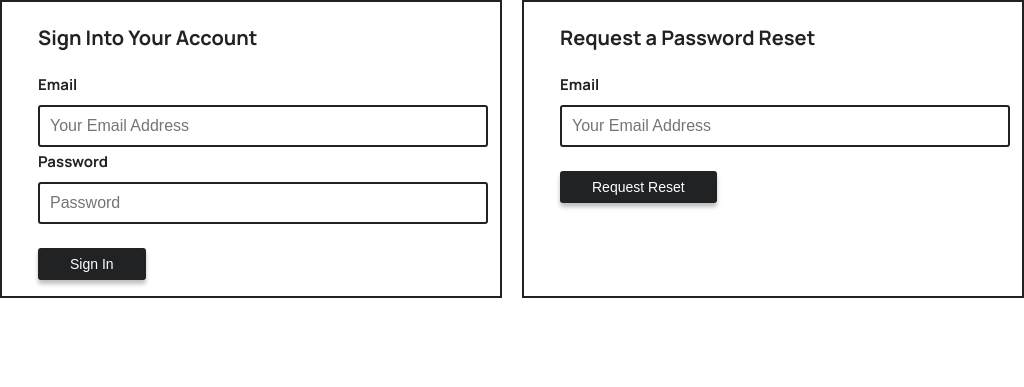
Test: displays an error if network error
The width and height of the screenshot is (1024, 387).
Type "email@example.com" into the field labelled "Email". click: (263, 126)
box: 38,105 -> 488,147
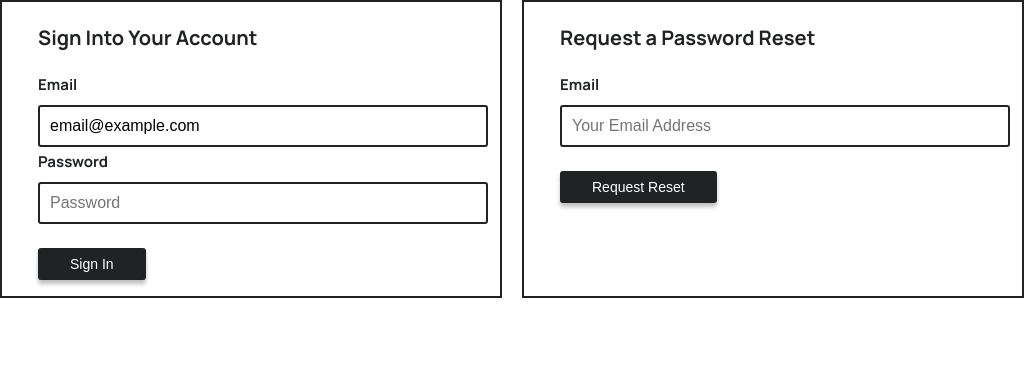
Type "password" into the password field labelled "Password". click: (263, 203)
box: 38,182 -> 488,224
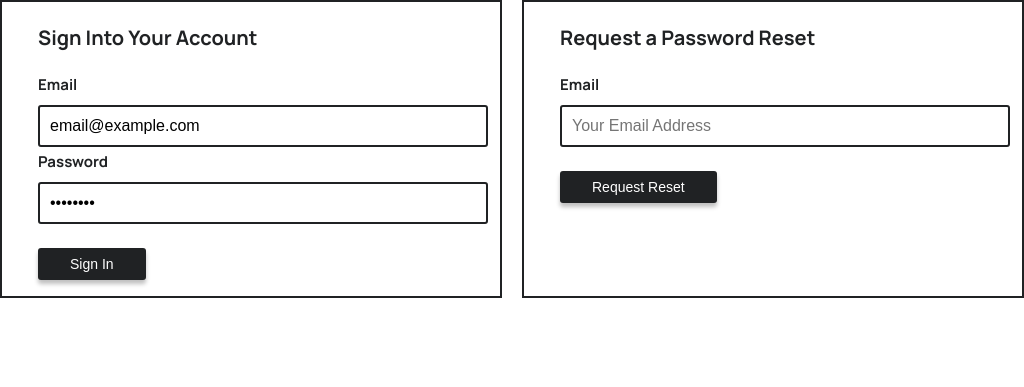
Click the button "Sign In". click: click(92, 264)
box: 38,248 -> 146,280
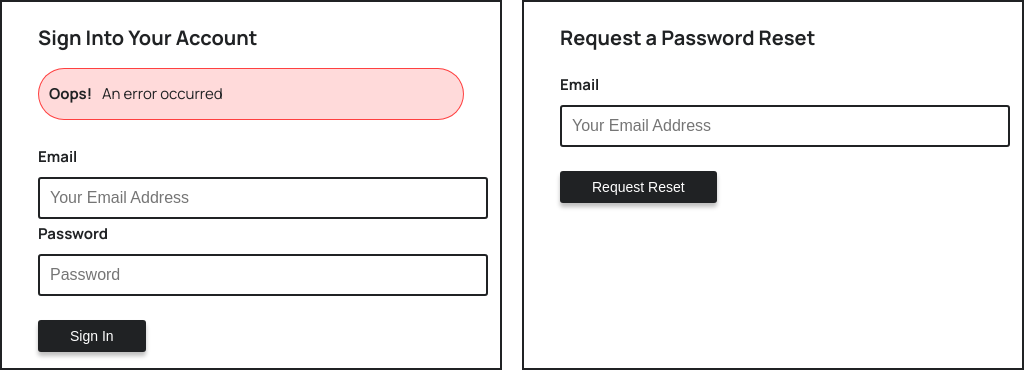
Expected: the text "Oops!" is shown, 49,83 -> 92,104
Expected: the text "An error occurred" is shown, 102,83 -> 223,104
